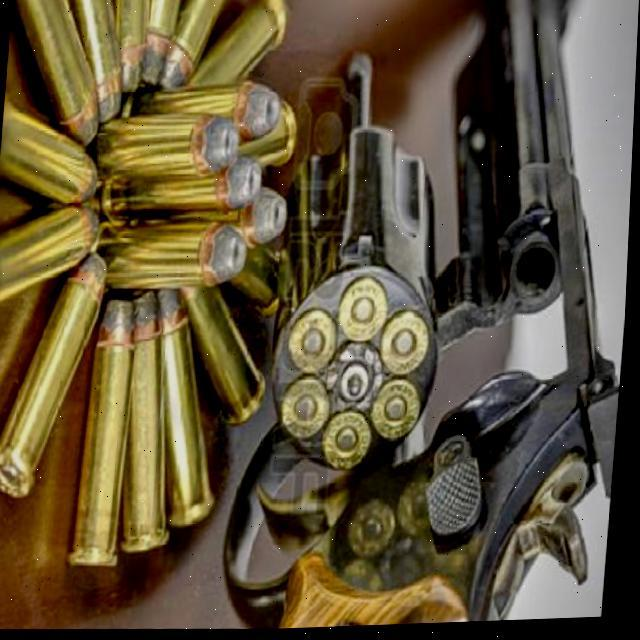gun: (226, 0, 640, 633)
